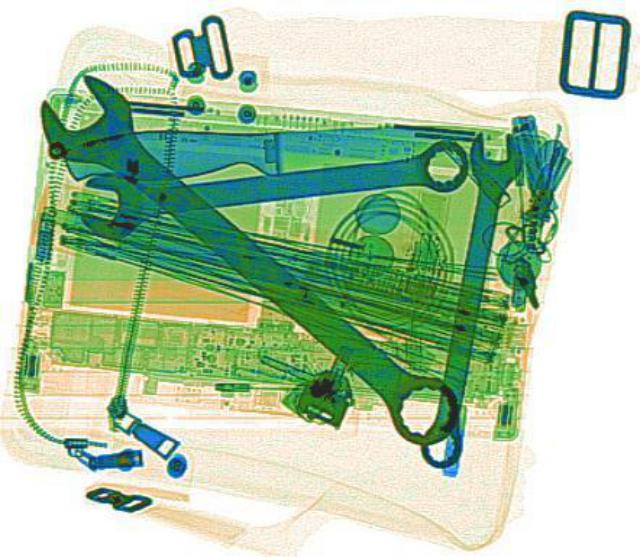Knife: (60, 108, 504, 186)
Wrench: (17, 65, 487, 460), (72, 131, 474, 243), (409, 128, 525, 471)
